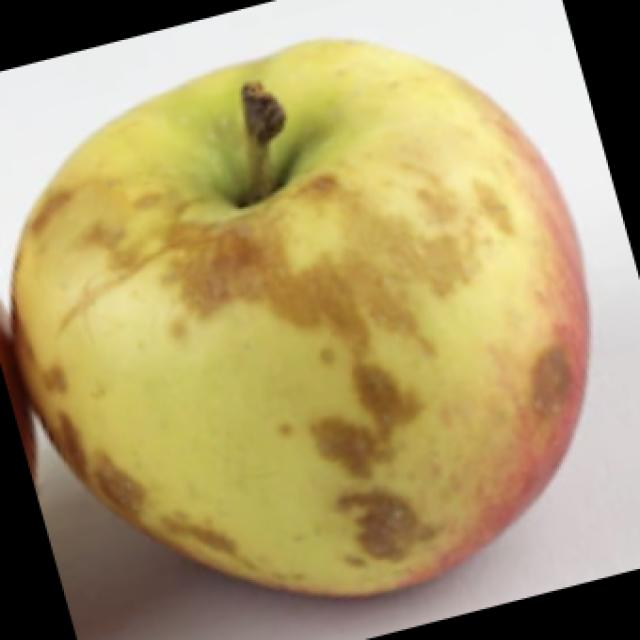organik: (8, 58, 630, 593)
